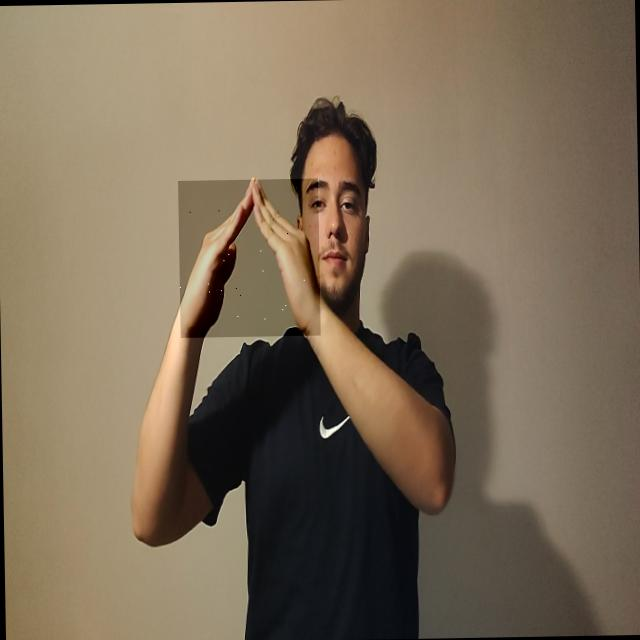house: (178, 178, 320, 337)
